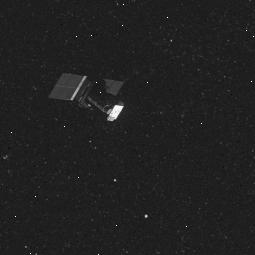soho: (48, 69, 128, 130)
